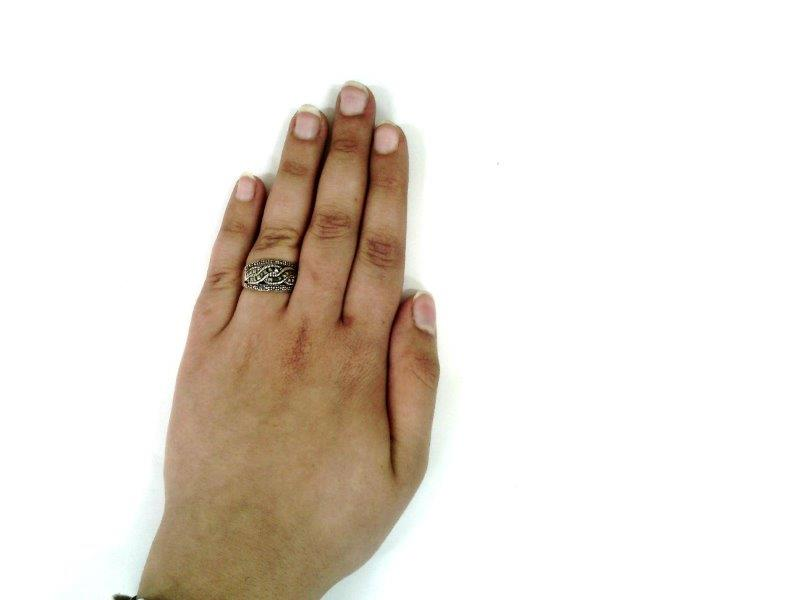hand: (153, 81, 440, 581)
